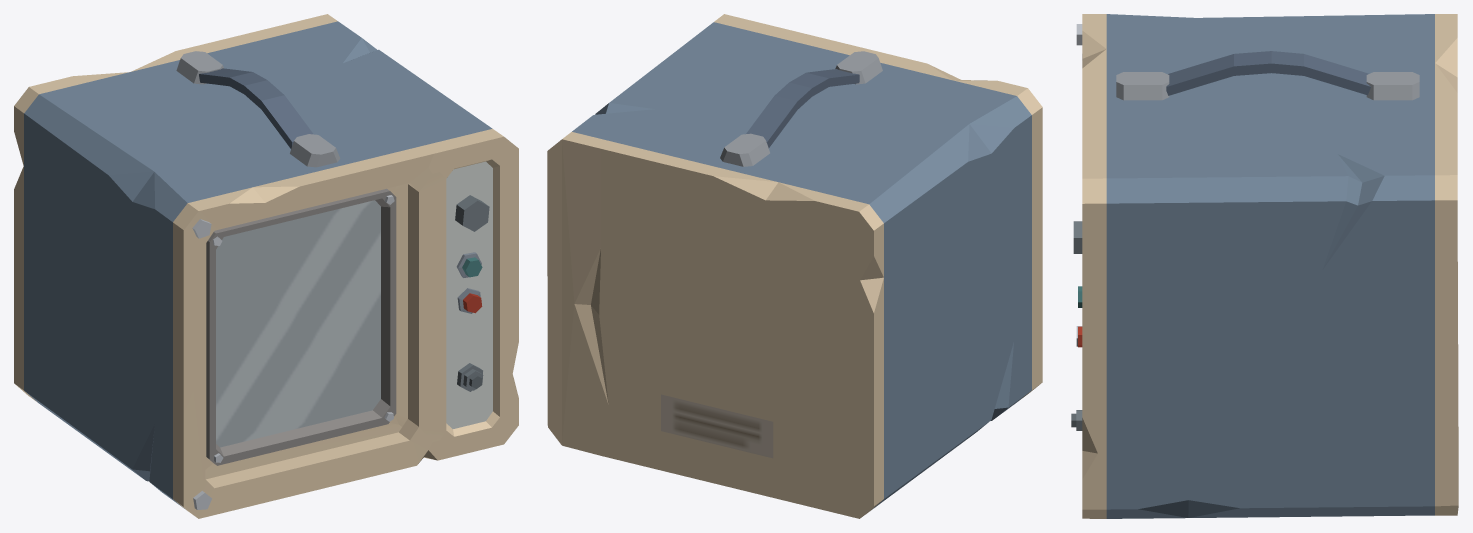
File: SM_Prop_Monitor_02.fbx
The picture shows the model from 3 angles, left to right: view 1: azimuth 30°, elevation 25°; view 2: azimuth 150°, elevation 25°; view 3: azimuth 270°, elevation 25°; orthographic projection. The views are drawn at different scales.
Visible parts, largest first — view 1: SM_Prop_Monitor_02; view 2: SM_Prop_Monitor_02; view 3: SM_Prop_Monitor_02.
Part boxes in pixels (x1,y1,x2,y2): SM_Prop_Monitor_02: (14,14,518,518); SM_Prop_Monitor_02: (547,14,1042,518); SM_Prop_Monitor_02: (1071,14,1458,518).
Size of the model in its own units: 36.06 by 34.91 by 32.69.
